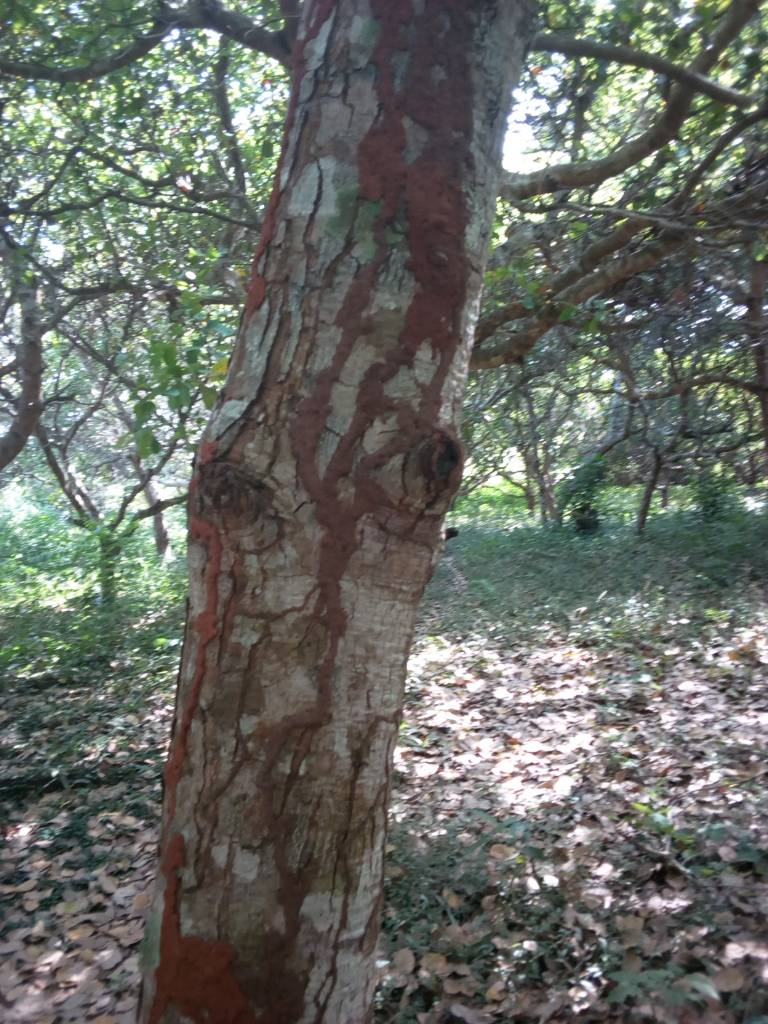Termites: (161, 583, 375, 1022), (290, 11, 457, 564)
